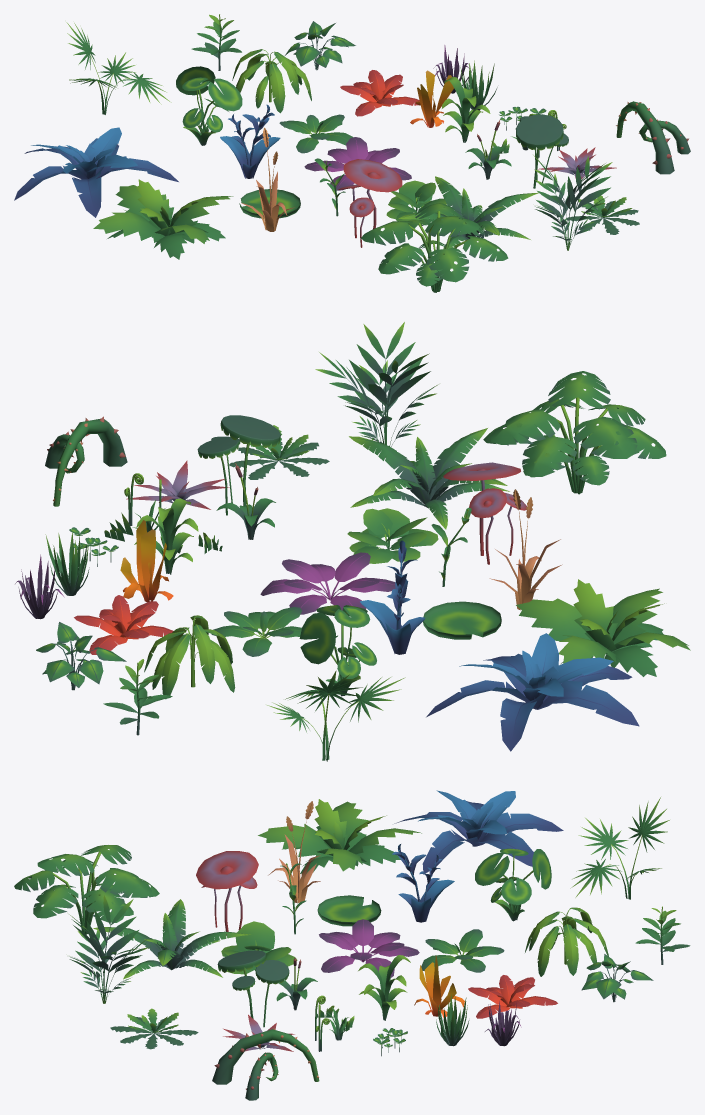
The model's file is Plants_01.fbx.
3 views of the same model, one above another, from view 1: azimuth 30°, elevation 25°; view 2: azimuth 150°, elevation 25°; view 3: azimuth 270°, elevation 25° (orthographic). The views are drawn at different scales.
Visible parts, largest first — view 1: Plane.027, Plane.028, Plane.022, Plane.016, Plane.029, Plane.018, Plane.021, Plane.007, Plane.019, Plane.025, Plane, Plane.008 (+16 smaller); view 2: Plane.027, Plane.022, Plane.028, Plane.018, Plane.029, Plane, Plane.016, Plane.007, Plane.006, Plane.021, Plane.008, Plane.019 (+16 smaller); view 3: Plane.027, Plane.028, Plane.022, Plane.018, Plane.029, Plane.016, Plane, Plane.007, Plane.025, Plane.021, Plane.019, Plane.008 (+16 smaller).
Boxes of the visible parts, <box> form: Plane.027: <box>361,203,508,292</box>; Plane.028: <box>93,179,233,259</box>; Plane.022: <box>14,127,178,217</box>; Plane.016: <box>176,66,242,145</box>; Plane.029: <box>533,155,612,250</box>; Plane.018: <box>398,176,538,254</box>; Plane.021: <box>338,159,402,247</box>; Plane.007: <box>232,49,311,113</box>; Plane.019: <box>515,114,568,188</box>; Plane.025: <box>66,22,171,114</box>; Plane: <box>304,137,411,190</box>; Plane.008: <box>340,70,419,116</box>; Plane.027: <box>483,371,666,494</box>; Plane.022: <box>426,633,639,751</box>; Plane.028: <box>516,579,690,676</box>; Plane.018: <box>349,428,509,529</box>; Plane.029: <box>315,322,438,457</box>; Plane: <box>260,552,395,614</box>; Plane.016: <box>299,605,376,696</box>; Plane.007: <box>144,615,235,699</box>; Plane.006: <box>347,508,438,563</box>; Plane.021: <box>443,462,526,564</box>; Plane.008: <box>74,595,173,654</box>; Plane.019: <box>197,415,280,515</box>; Plane.027: <box>14,845,159,934</box>; Plane.028: <box>258,799,421,873</box>; Plane.022: <box>394,790,563,874</box>; Plane.018: <box>93,899,250,979</box>; Plane.029: <box>69,895,148,1003</box>; Plane.016: <box>475,848,551,921</box>; Plane: <box>319,919,419,977</box>; Plane.007: <box>525,907,608,976</box>; Plane.025: <box>570,797,669,899</box>; Plane.021: <box>196,851,258,935</box>; Plane.019: <box>217,950,289,1027</box>; Plane.008: <box>468,975,557,1018</box>.
Size of the model in its own units: 5.91 by 0.9953 by 5.91.
